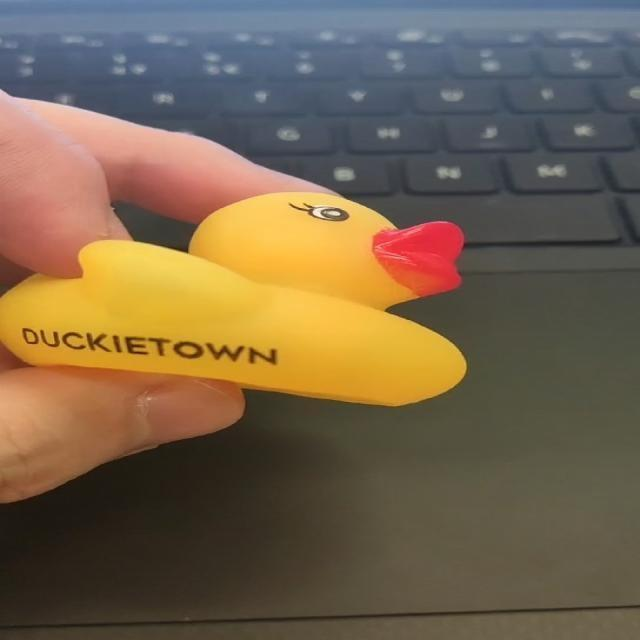rubber-duck: (0, 191, 464, 403)
